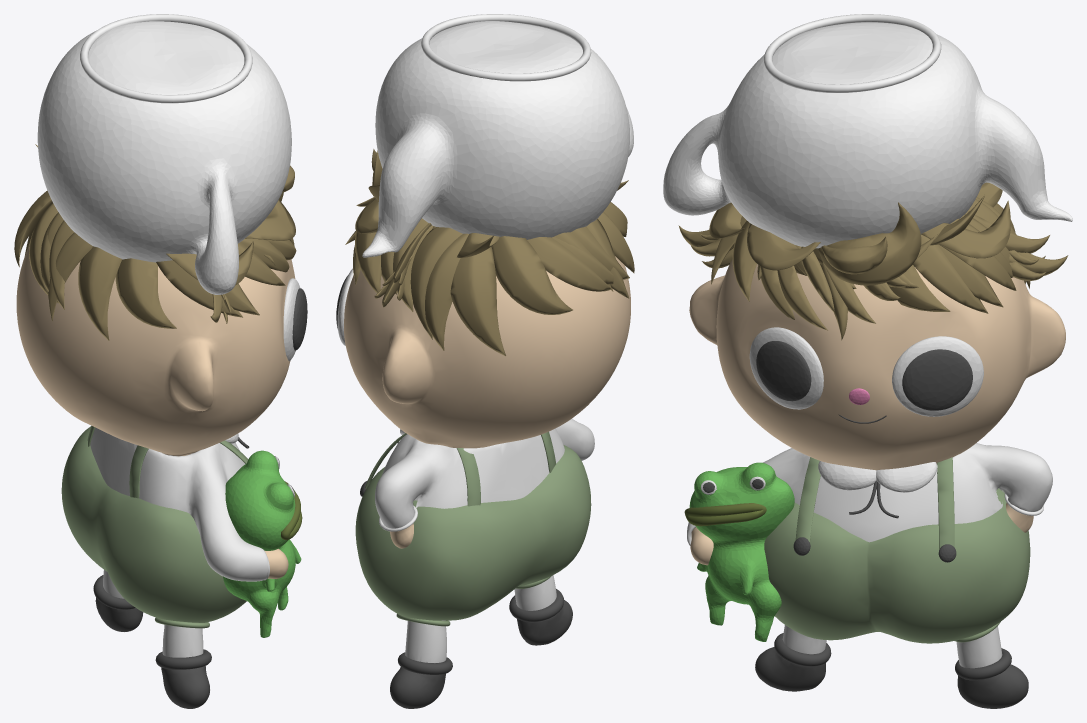
Rendered from greg3.glb.
The picture shows the model from 3 angles, left to right: view 1: azimuth 30°, elevation 25°; view 2: azimuth 150°, elevation 25°; view 3: azimuth 270°, elevation 25°; orthographic projection. The views are drawn at different scales.
Parts seen in each view (by area): view 1: NurbsPath.001; view 2: NurbsPath.001; view 3: NurbsPath.001.
Boxes of the visible parts, left/top/right/bottom form: NurbsPath.001: left=14, top=14, right=307, bottom=708; NurbsPath.001: left=336, top=14, right=634, bottom=708; NurbsPath.001: left=663, top=14, right=1072, bottom=708.
Bounding box in the file's own units: 8.88 × 21.64 × 12.3.
